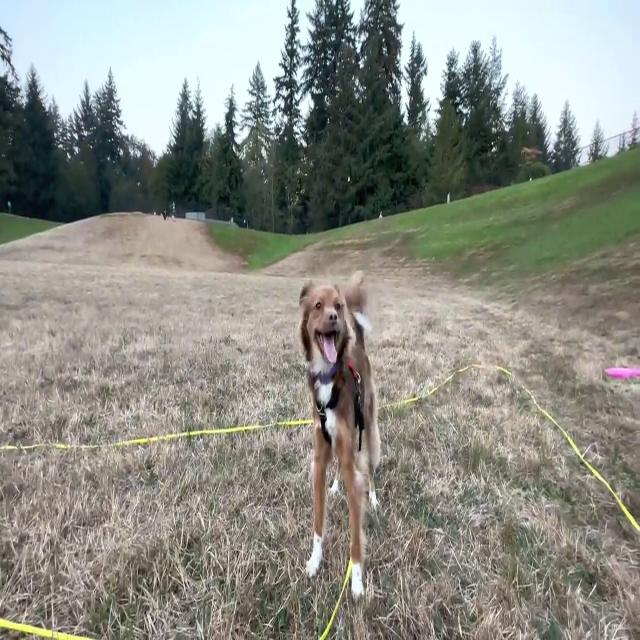Dog: (299, 270, 381, 606)
